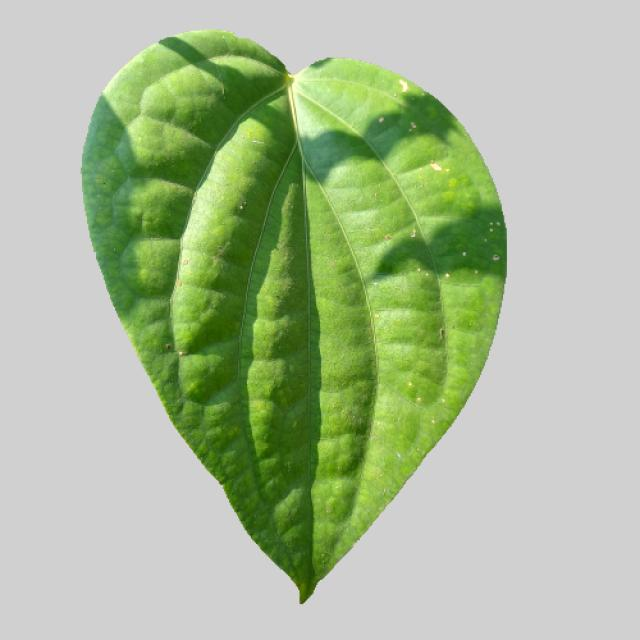healthy: (73, 24, 510, 610)
